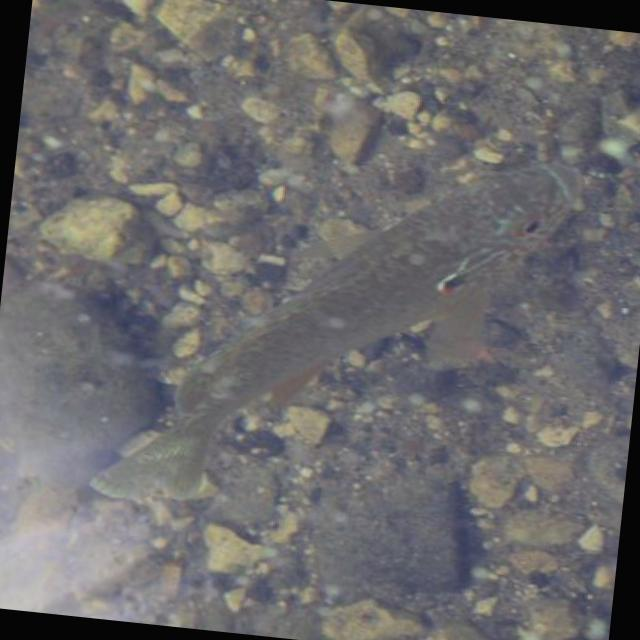Gunes Levregi: (66, 117, 614, 548)
